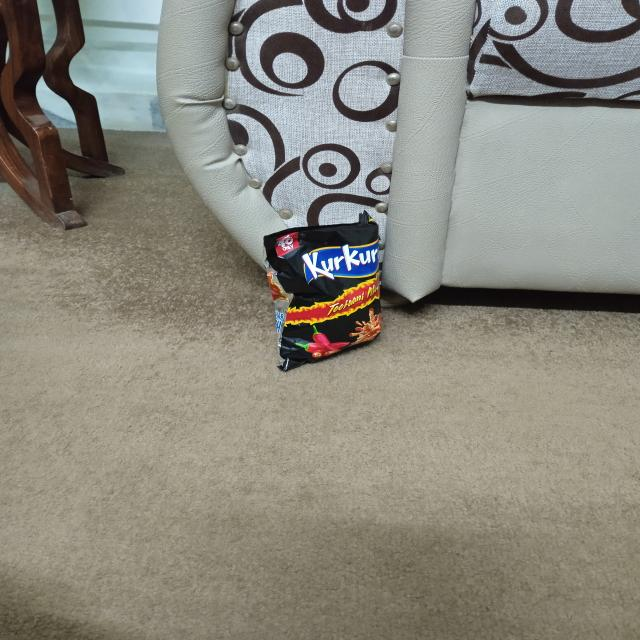Plastic: (261, 217, 395, 370)
